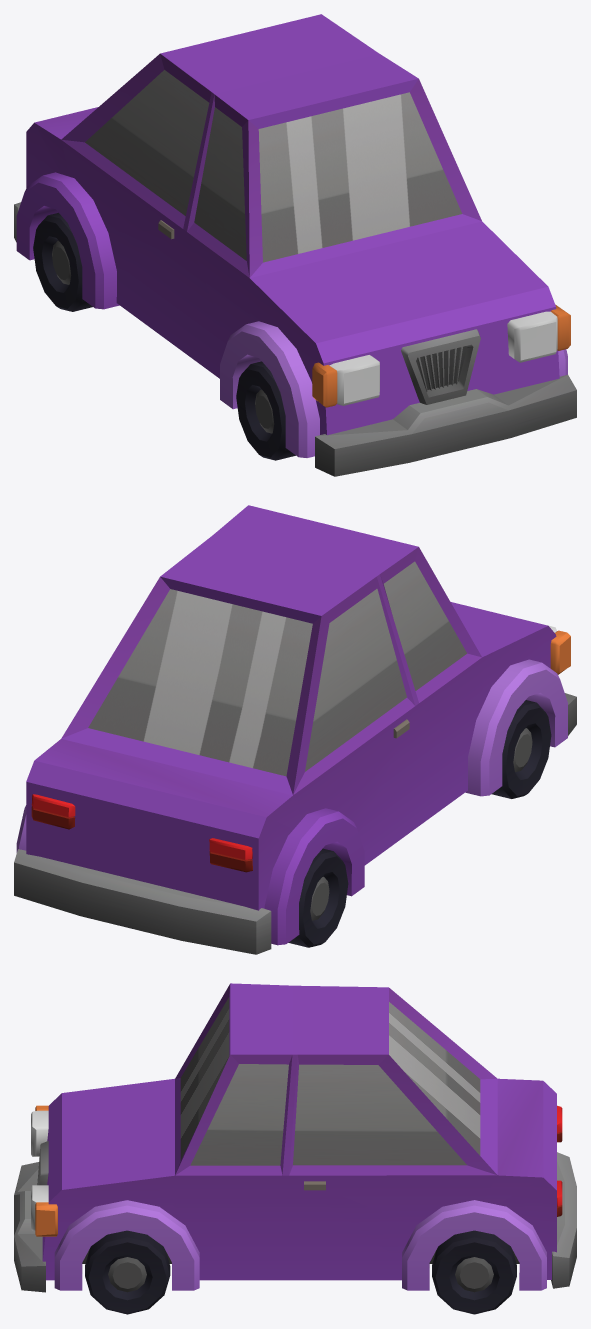
The model's file is Car_4_16.fbx.
The picture shows the model from 3 angles, top to bottom: view 1: azimuth 30°, elevation 25°; view 2: azimuth 150°, elevation 25°; view 3: azimuth 270°, elevation 25°; orthographic projection. The views are drawn at different scales.
Parts seen in each view (by area): view 1: Car_4_16, BWhel_FR, BWhel_BR; view 2: Car_4_16, BWhel_BR, BWhel_FR; view 3: Car_4_16, BWhel_FL, BWhel_BL.
Boxes of the visible parts, x1,y1,x2,y2 form: Car_4_16: (14, 14, 576, 476); BWhel_FR: (236, 361, 295, 460); BWhel_BR: (33, 212, 92, 311); Car_4_16: (14, 505, 576, 954); BWhel_BR: (288, 848, 348, 947); BWhel_FR: (491, 700, 551, 798); Car_4_16: (14, 983, 576, 1292); BWhel_FL: (85, 1230, 170, 1314); BWhel_BL: (432, 1230, 516, 1314).
Bounding box in the file's own units: 1.09 × 1.09 × 2.3.
